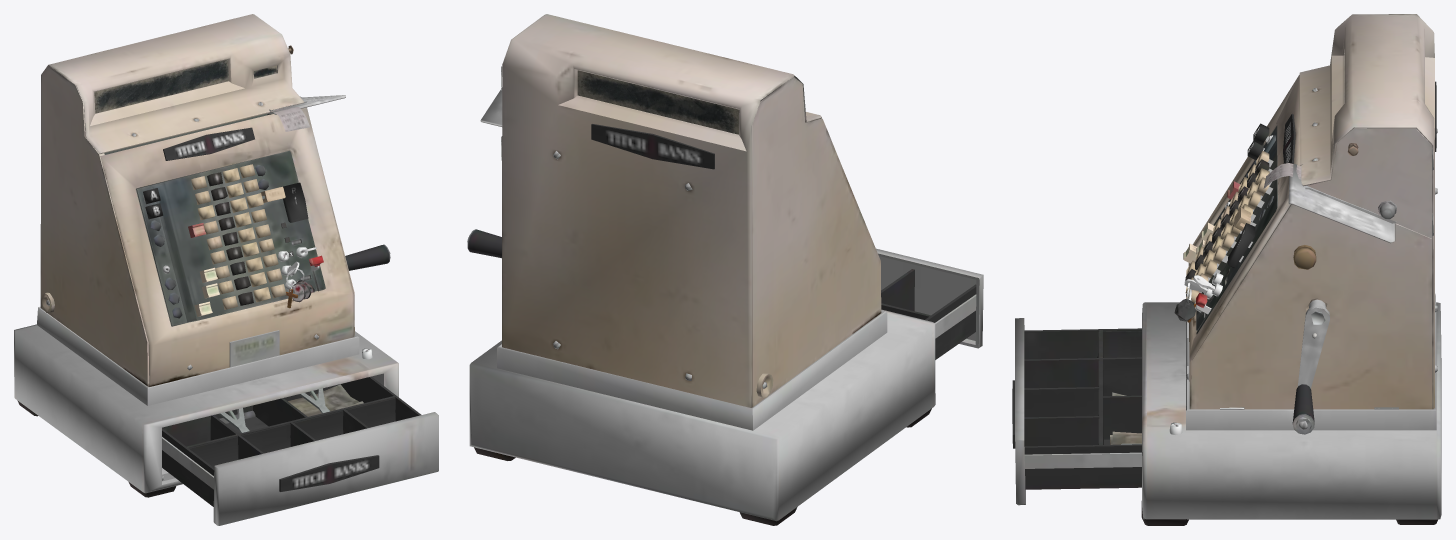
File: cash-register.glb
3 renders of one model, left to right at view 1: azimuth 30°, elevation 25°; view 2: azimuth 150°, elevation 25°; view 3: azimuth 270°, elevation 25°, orthographic. The views are drawn at different scales.
Parts seen in each view (by area): view 1: CashRegister_01_body; view 2: CashRegister_01_body; view 3: CashRegister_01_body.
Boxes of the visible parts, x1=… form: CashRegister_01_body: x1=14, y1=14, x2=438, y2=525; CashRegister_01_body: x1=467, y1=14, x2=983, y2=525; CashRegister_01_body: x1=1012, y1=14, x2=1441, y2=525.
Bounding box in the file's own units: 0.5984 × 0.6212 × 0.6242.
Materials: 2 (2 with a texture image).
